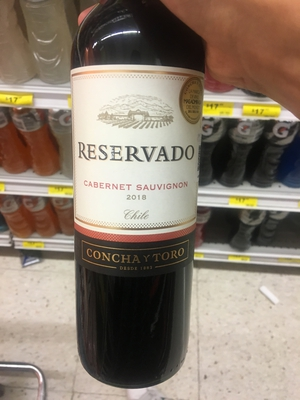reservado cabernet sauvignon: (65, 16, 212, 383)
